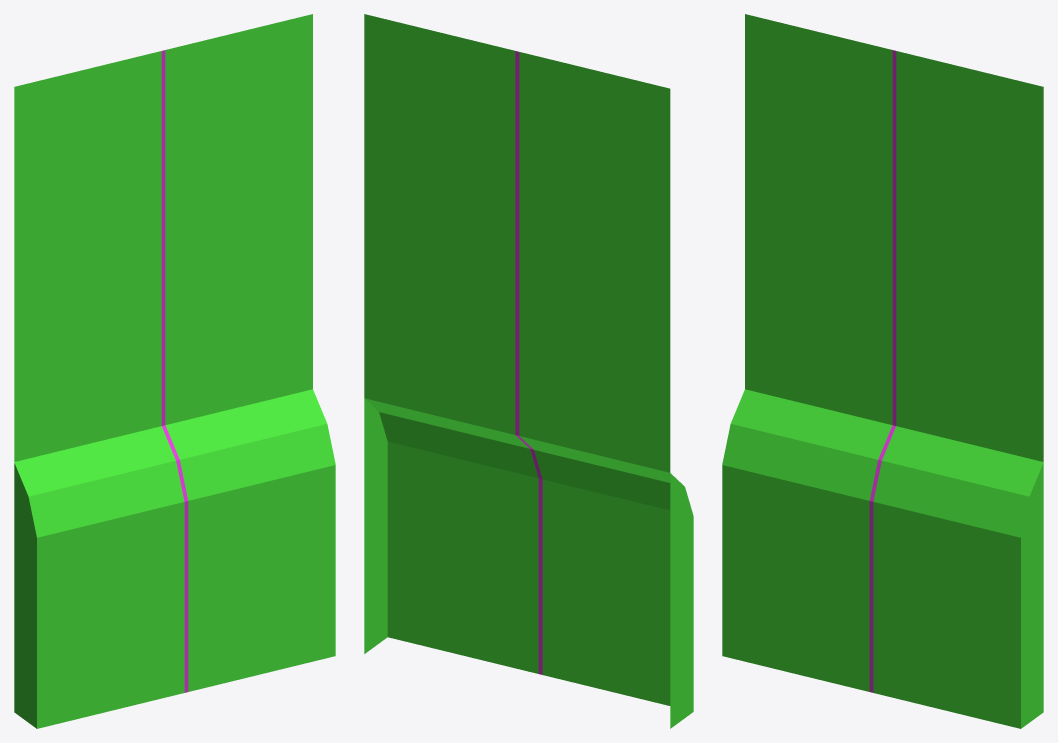
File: Wall_43_D_Straight.fbx
3 views of the same model, side by side, from view 1: azimuth 30°, elevation 25°; view 2: azimuth 150°, elevation 25°; view 3: azimuth 330°, elevation 25° (orthographic). The views are drawn at different scales.
Parts seen in each view (by area): view 1: Wall_43_D_Straight; view 2: Wall_43_D_Straight; view 3: Wall_43_D_Straight.
Part boxes in pixels (left/top/right/bottom): Wall_43_D_Straight: left=14, top=14, right=335, bottom=728; Wall_43_D_Straight: left=364, top=14, right=693, bottom=728; Wall_43_D_Straight: left=722, top=14, right=1043, bottom=728.
Bounding box in the file's own units: 229 × 457 × 30.24.
